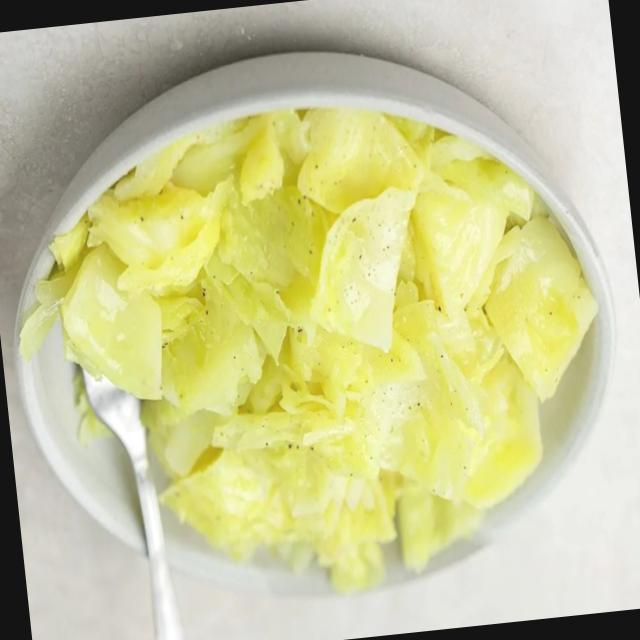bap cai luoc: (21, 107, 597, 589)
